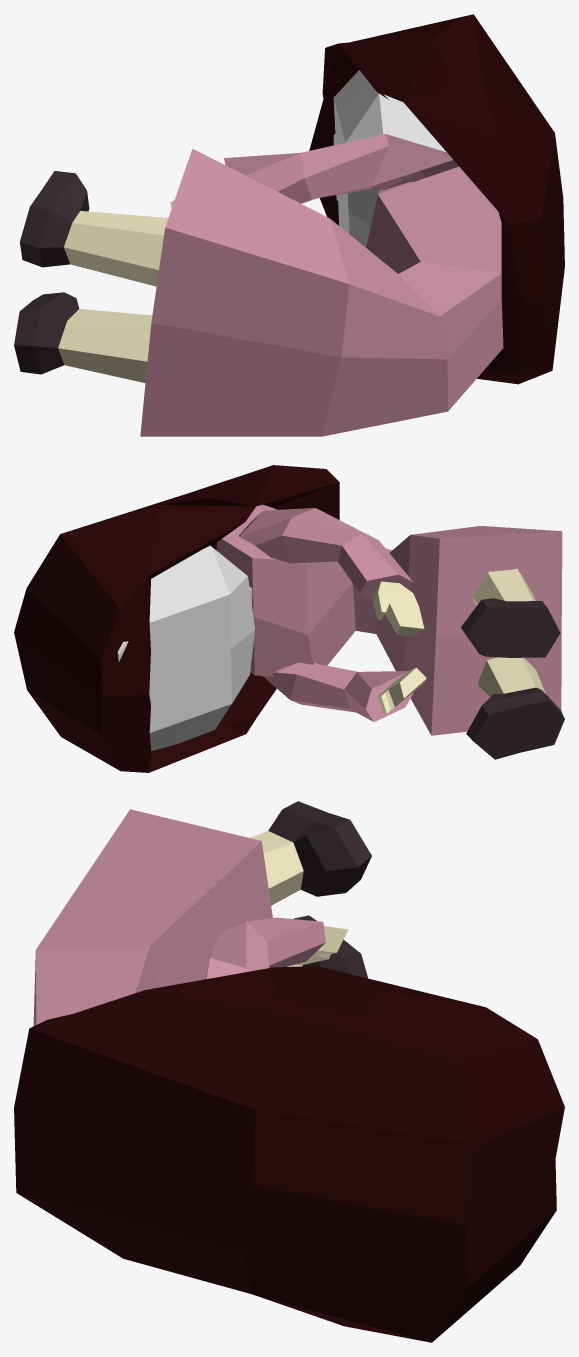
Rendered from dead lady.fbx.
The picture shows the model from 3 angles, top to bottom: view 1: azimuth 30°, elevation 25°; view 2: azimuth 150°, elevation 25°; view 3: azimuth 270°, elevation 25°; orthographic projection. The views are drawn at different scales.
Visible parts, largest first — view 1: torso, hair, leg, arm, head; view 2: hair, torso, head, leg, arm, hands; view 3: hair, torso, leg, arm, hands.
Part boxes in pixels (x1=…): torso: x1=140, y1=148, x2=503, y2=436; hair: x1=309, y1=14, x2=564, y2=384; leg: x1=14, y1=171, x2=168, y2=383; arm: x1=224, y1=134, x2=458, y2=203; head: x1=333, y1=70, x2=446, y2=247; hair: x1=14, y1=465, x2=339, y2=772; torso: x1=216, y1=504, x2=562, y2=735; head: x1=117, y1=545, x2=254, y2=750; leg: x1=461, y1=568, x2=564, y2=759; arm: x1=239, y1=508, x2=413, y2=721; hands: x1=372, y1=581, x2=426, y2=714; hair: x1=14, y1=966, x2=564, y2=1342; torso: x1=33, y1=809, x2=272, y2=1025; leg: x1=249, y1=801, x2=371, y2=978; arm: x1=205, y1=917, x2=325, y2=979; hands: x1=295, y1=926, x2=348, y2=965.
Size of the model in its own units: 135 by 66.97 by 101.
